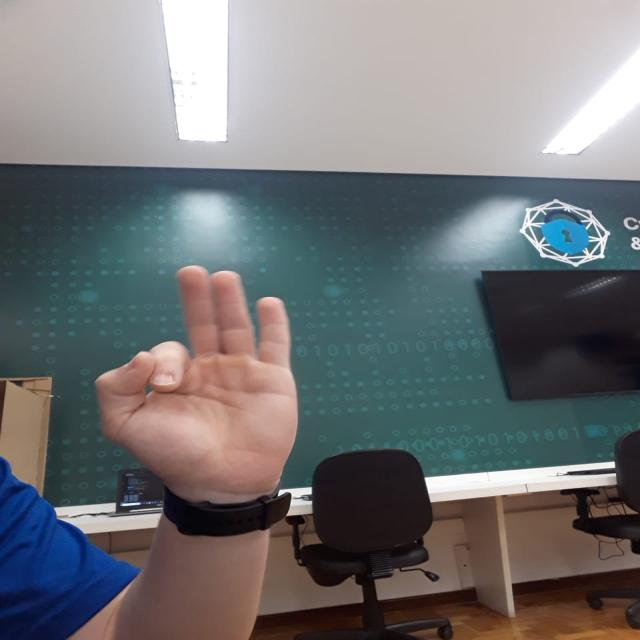F: (92, 262, 336, 490)
